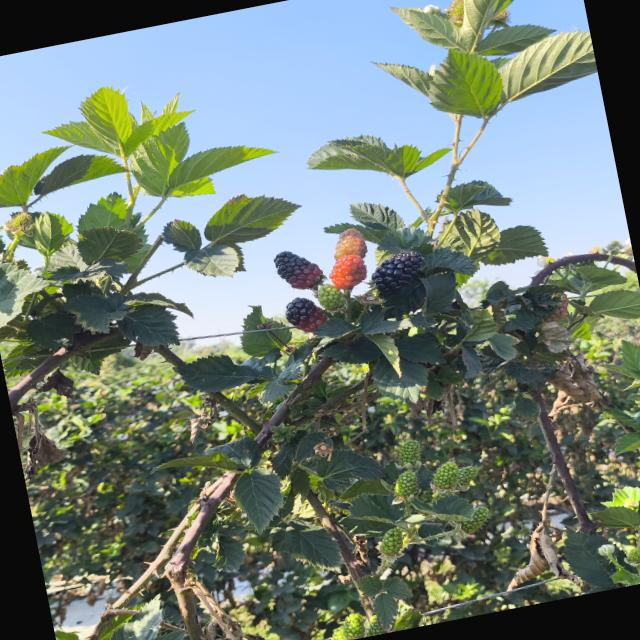maduro: (373, 251, 423, 297)
marron: (274, 252, 322, 289), (286, 297, 328, 332)
naranja: (330, 254, 367, 290), (334, 228, 367, 260)
verde: (396, 439, 421, 470), (317, 284, 345, 311), (462, 506, 489, 532), (434, 462, 459, 489), (395, 471, 418, 499), (380, 528, 403, 555), (456, 466, 479, 490)
